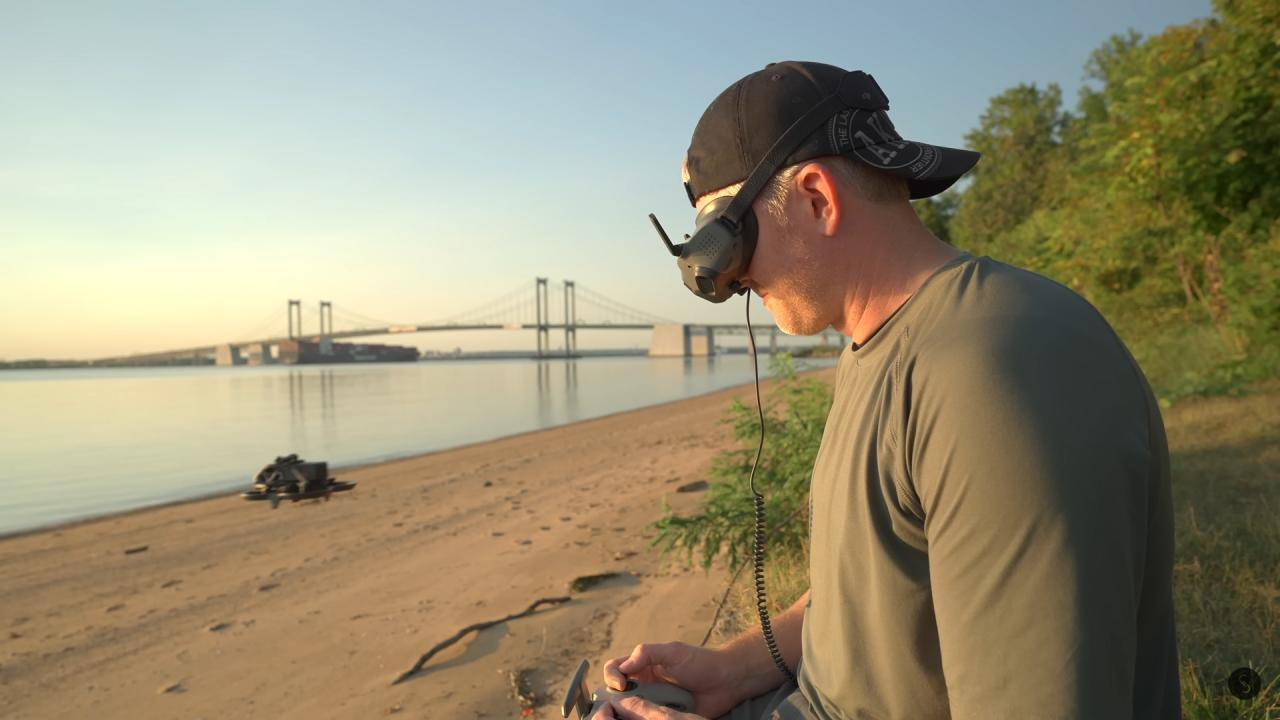Drone: (222, 440, 368, 520)
